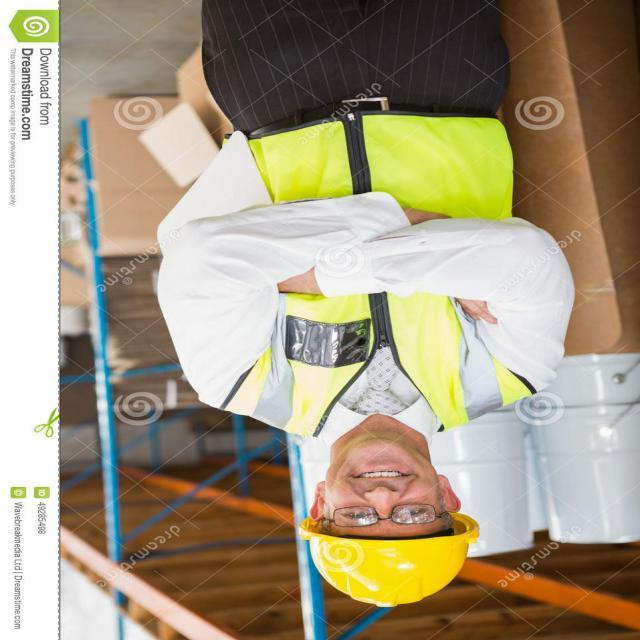safetyhelmet: (291, 424, 481, 611)
